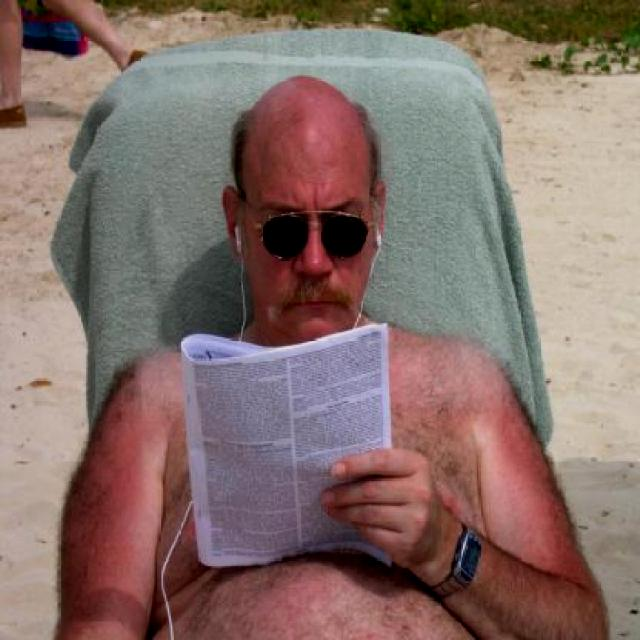face_nomask: (240, 181, 377, 337)
glasses: (235, 170, 379, 256)
hand_noglove: (316, 442, 452, 572)
person: (72, 64, 573, 640)
